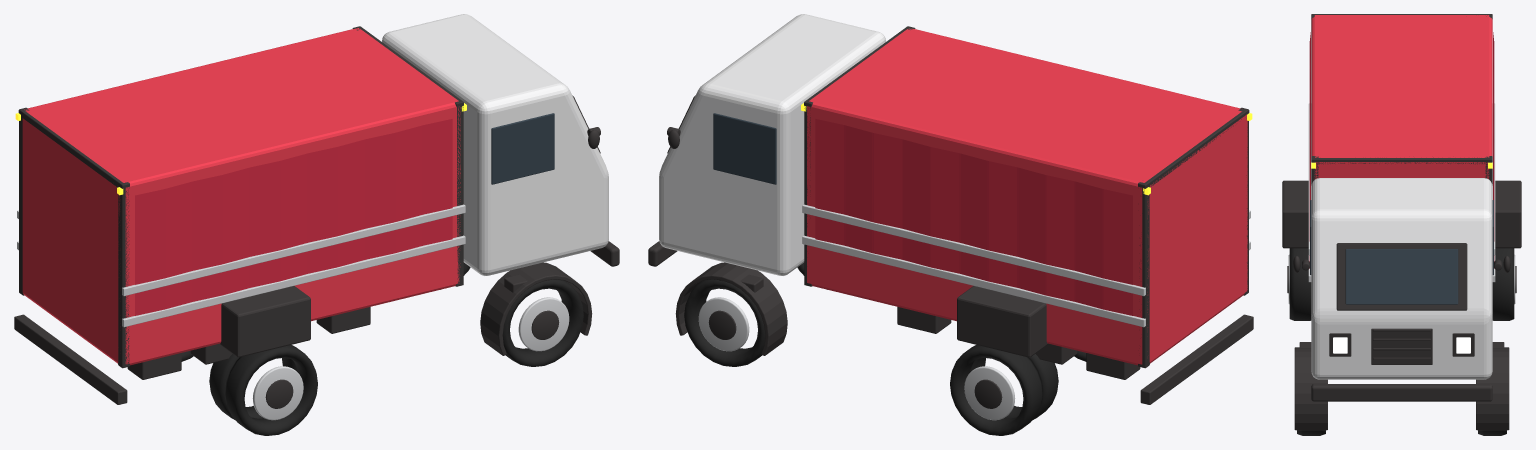
File: the-basketry-delivery-truck.glb
3 renders of one model, left to right at view 1: azimuth 30°, elevation 25°; view 2: azimuth 150°, elevation 25°; view 3: azimuth 270°, elevation 25°, orthographic. The views are drawn at different scales.
Visible parts, largest first — view 1: Cargo_Box, Cargo_SidePanel_-1, Cab_Shell, Cargo_Mudguard_-1, Wheel_Rear_Tire_-1_1, Cab_SideWindow_-1, Cab_FenderArc_-1, Cargo_RubRail_Low_-1, Cargo_RubRail_High_-1, Wheel_Front_Tire_-1_0, Cargo_RearUnderride, Cargo_ToolStrip_-1 (+9 smaller); view 2: Cargo_Box, Cargo_SidePanel_1, Cab_Shell, Cargo_Mudguard_1, Wheel_Rear_Tire_1_1, Cab_SideWindow_1, Cab_FenderArc_1, Cargo_RubRail_Low_1, Cargo_RubRail_High_1, Wheel_Front_Tire_1_0, Cargo_RearUnderride, Cargo_ToolStrip_1 (+8 smaller); view 3: Cargo_Box, Cab_Shell, Cab_Windshield, Cab_Bumper, Cab_WindshieldFrame, Cab_FenderArc_1, Cab_FenderArc_-1, Cab_Grille_Backing, Cargo_Mudguard_1, Cargo_Mudguard_-1, Wheel_Rear_Tire_1_1, Wheel_Rear_Tire_-1_1 (+9 smaller).
Part boxes in pixels (x1=…): Cargo_Box: x1=22, y1=28, x2=460, y2=365; Cargo_SidePanel_-1: x1=135, y1=119, x2=452, y2=315; Cab_Shell: x1=382, y1=14, x2=608, y2=275; Cargo_Mudguard_-1: x1=220, y1=286, x2=310, y2=357; Wheel_Rear_Tire_-1_1: x1=225, y1=345, x2=317, y2=435; Cab_SideWindow_-1: x1=491, y1=113, x2=554, y2=184; Cab_FenderArc_-1: x1=480, y1=262, x2=592, y2=355; Cargo_RubRail_Low_-1: x1=122, y1=235, x2=465, y2=327; Cargo_RubRail_High_-1: x1=122, y1=204, x2=465, y2=296; Wheel_Front_Tire_-1_0: x1=502, y1=279, x2=583, y2=366; Cargo_RearUnderride: x1=14, y1=314, x2=127, y2=404; Cargo_ToolStrip_-1: x1=127, y1=307, x2=370, y2=379; Cargo_Box: x1=807, y1=28, x2=1247, y2=365; Cargo_SidePanel_1: x1=815, y1=119, x2=1132, y2=315; Cab_Shell: x1=659, y1=14, x2=885, y2=275; Cargo_Mudguard_1: x1=957, y1=286, x2=1047, y2=357; Wheel_Rear_Tire_1_1: x1=950, y1=345, x2=1042, y2=435; Cab_SideWindow_1: x1=713, y1=113, x2=776, y2=184; Cab_FenderArc_1: x1=675, y1=262, x2=787, y2=355; Cargo_RubRail_Low_1: x1=802, y1=235, x2=1145, y2=327; Cargo_RubRail_High_1: x1=802, y1=204, x2=1145, y2=296; Wheel_Front_Tire_1_0: x1=684, y1=279, x2=765, y2=366; Cargo_RearUnderride: x1=1140, y1=314, x2=1253, y2=404; Cargo_ToolStrip_1: x1=897, y1=307, x2=1140, y2=379; Cargo_Box: x1=1311, y1=15, x2=1492, y2=179; Cab_Shell: x1=1311, y1=178, x2=1492, y2=379; Cab_Windshield: x1=1345, y1=249, x2=1458, y2=304; Cab_Bumper: x1=1311, y1=384, x2=1492, y2=401; Cab_WindshieldFrame: x1=1336, y1=243, x2=1467, y2=310; Cab_FenderArc_1: x1=1476, y1=347, x2=1509, y2=430; Cab_FenderArc_-1: x1=1294, y1=347, x2=1327, y2=430; Cab_Grille_Backing: x1=1371, y1=328, x2=1432, y2=364; Cargo_Mudguard_1: x1=1495, y1=180, x2=1521, y2=248; Cargo_Mudguard_-1: x1=1282, y1=180, x2=1308, y2=248; Wheel_Rear_Tire_1_1: x1=1492, y1=248, x2=1514, y2=320; Wheel_Rear_Tire_-1_1: x1=1289, y1=248, x2=1311, y2=320.
Size of the model in its own units: 5.59 by 2.95 by 2.64.
